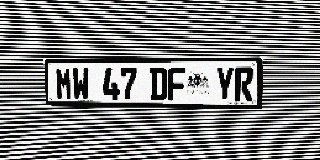4: (102, 67, 120, 100)
7: (120, 67, 137, 100)
D: (150, 67, 167, 101)
F: (168, 67, 186, 101)
M: (55, 68, 73, 100)
R: (234, 67, 254, 101)
W: (72, 68, 90, 100)
Y: (215, 67, 234, 101)
